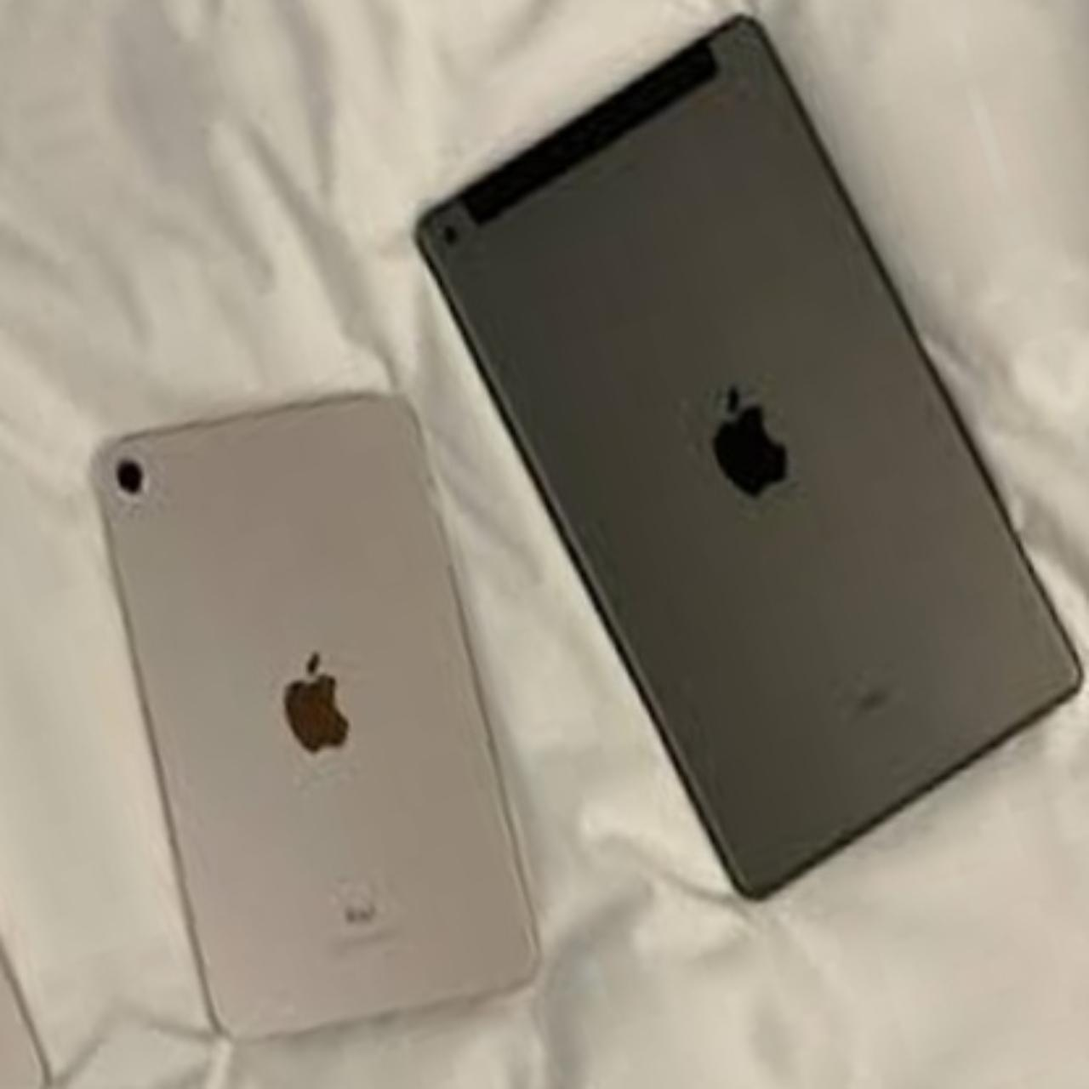Tablet_PC: (364, 0, 1089, 966), (30, 337, 593, 1089)
